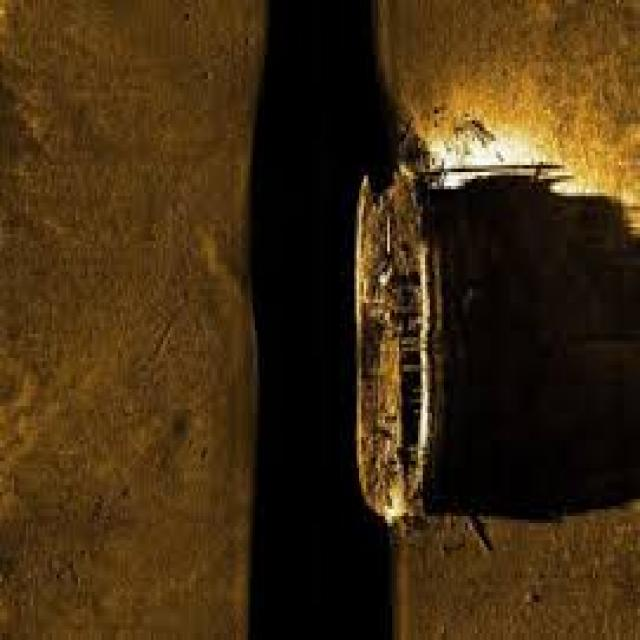ship: (354, 155, 442, 530)
